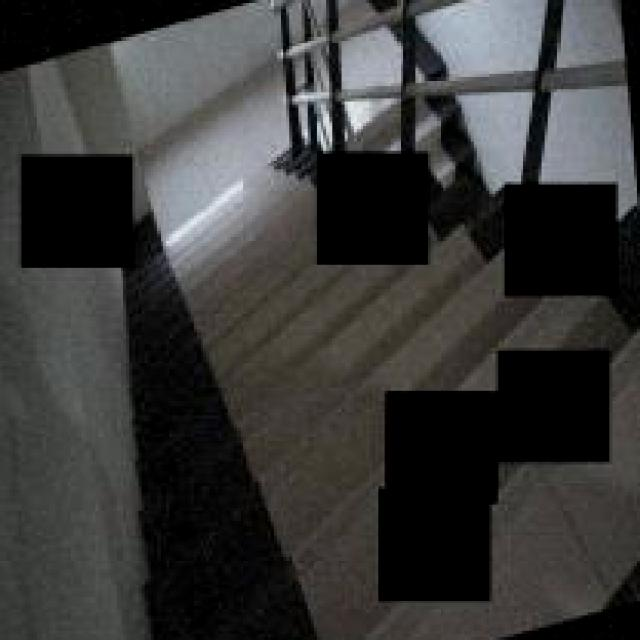downstair: (146, 327, 380, 610)
